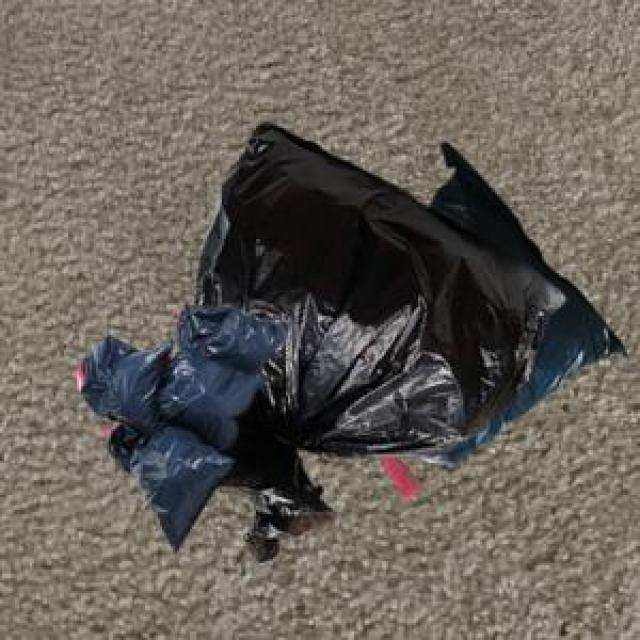garbage_bag: (186, 118, 628, 470)
